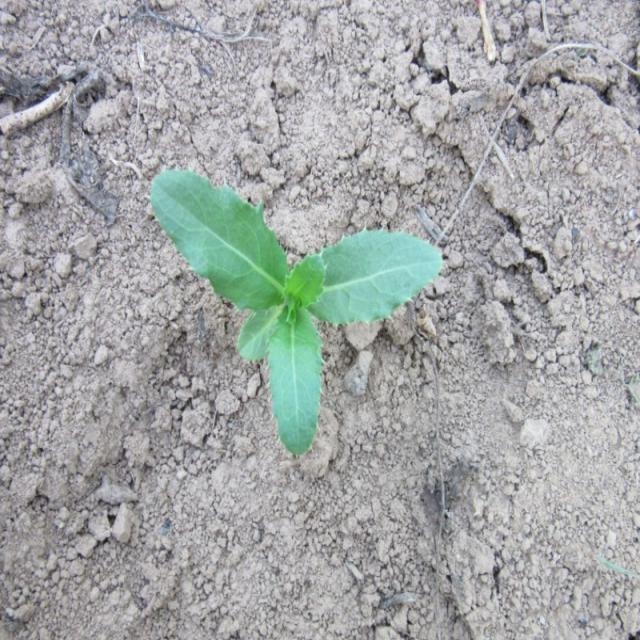cs: (150, 167, 446, 459)
